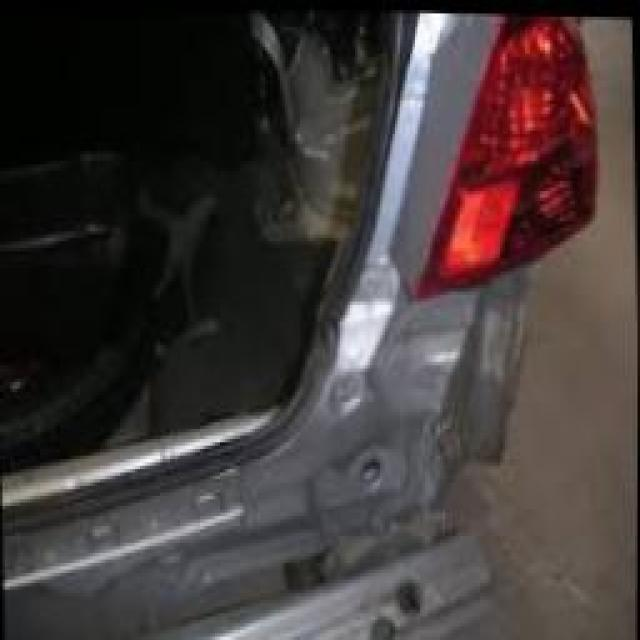Bumper: (7, 267, 540, 640)
